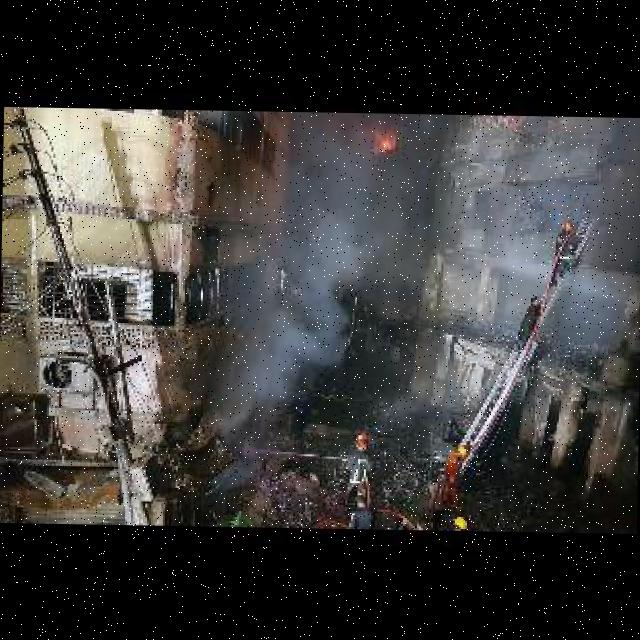fire: (369, 125, 406, 158)
